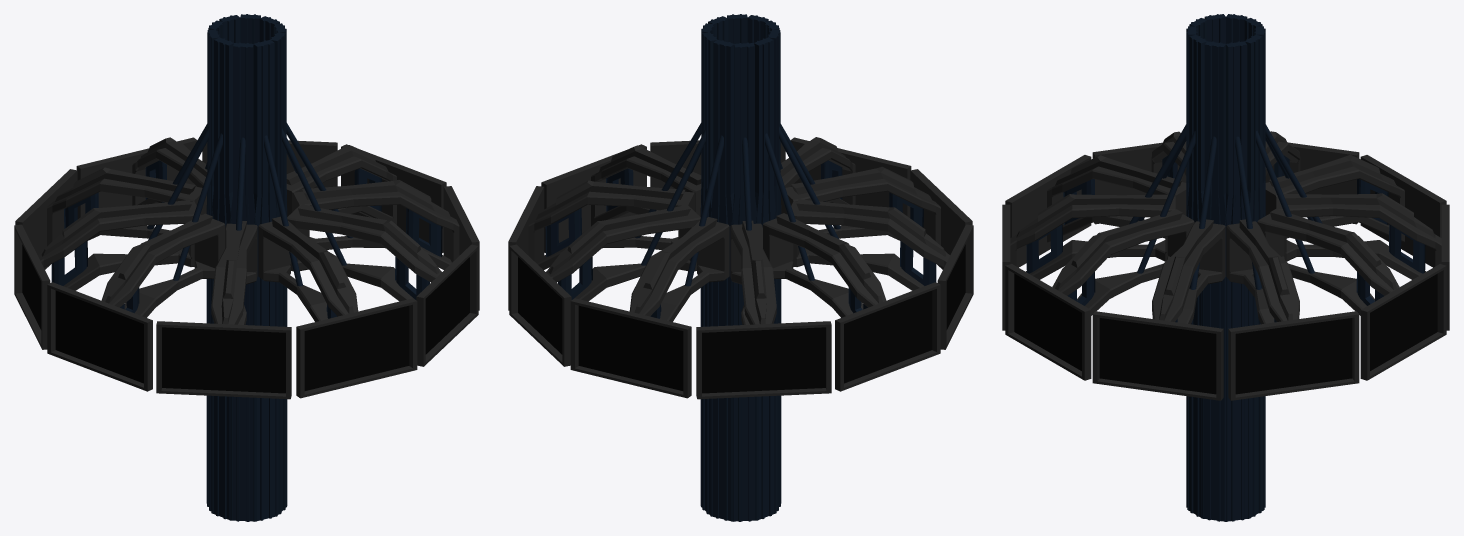
Rendered from computers.glb.
3 views of the same model, side by side, from view 1: azimuth 30°, elevation 25°; view 2: azimuth 150°, elevation 25°; view 3: azimuth 270°, elevation 25° (orthographic).
Parts seen in each view (by area): view 1: desktop; view 2: desktop; view 3: desktop.
Boxes of the visible parts, x1,y1,x2,y2 form: desktop: (14,14,479,521); desktop: (508,14,973,521); desktop: (1002,14,1449,521).
Size of the model in its own units: 10.2 by 11.43 by 9.77.
